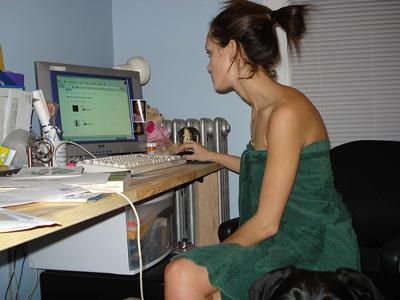person: (165, 1, 363, 300)
